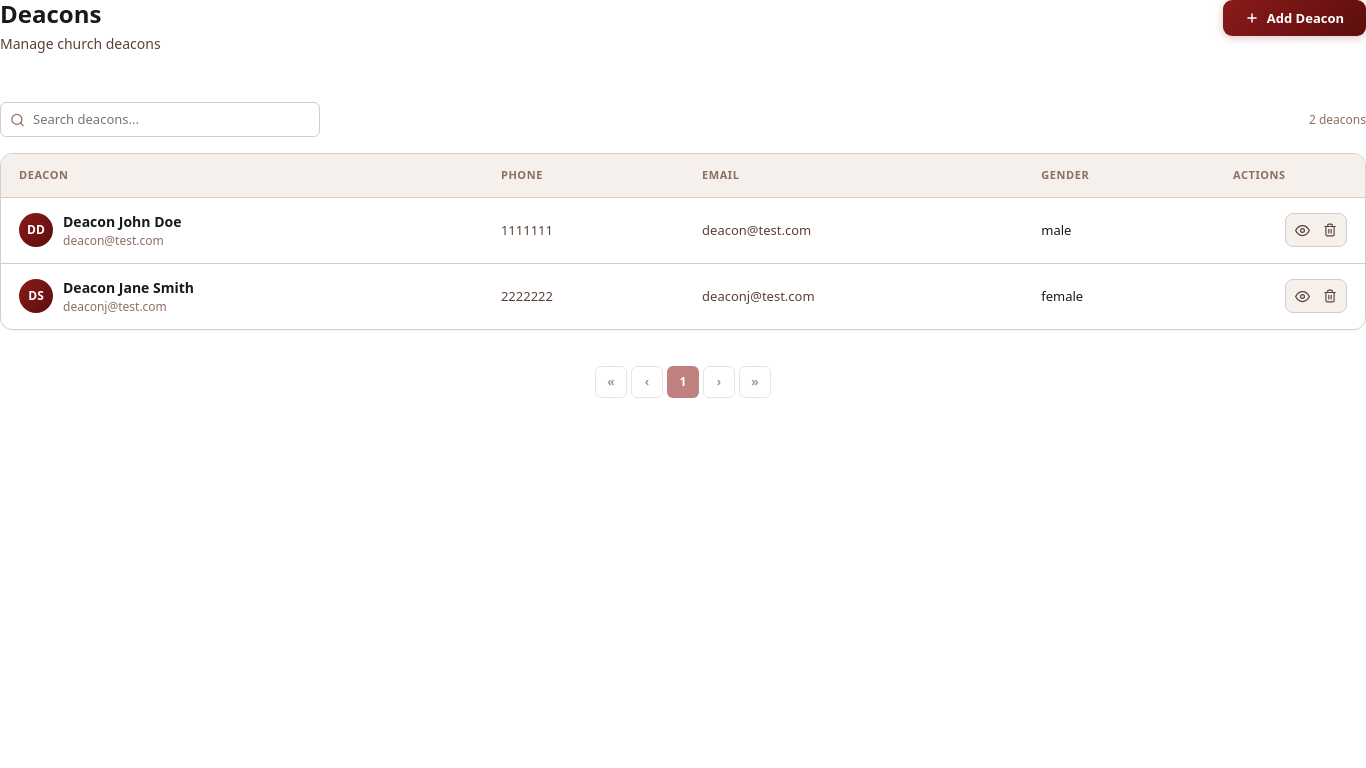
Deacons › opens add deacon modal
Click the button "Add Deacon" at (1294, 18), box [1223, 0, 1365, 36]
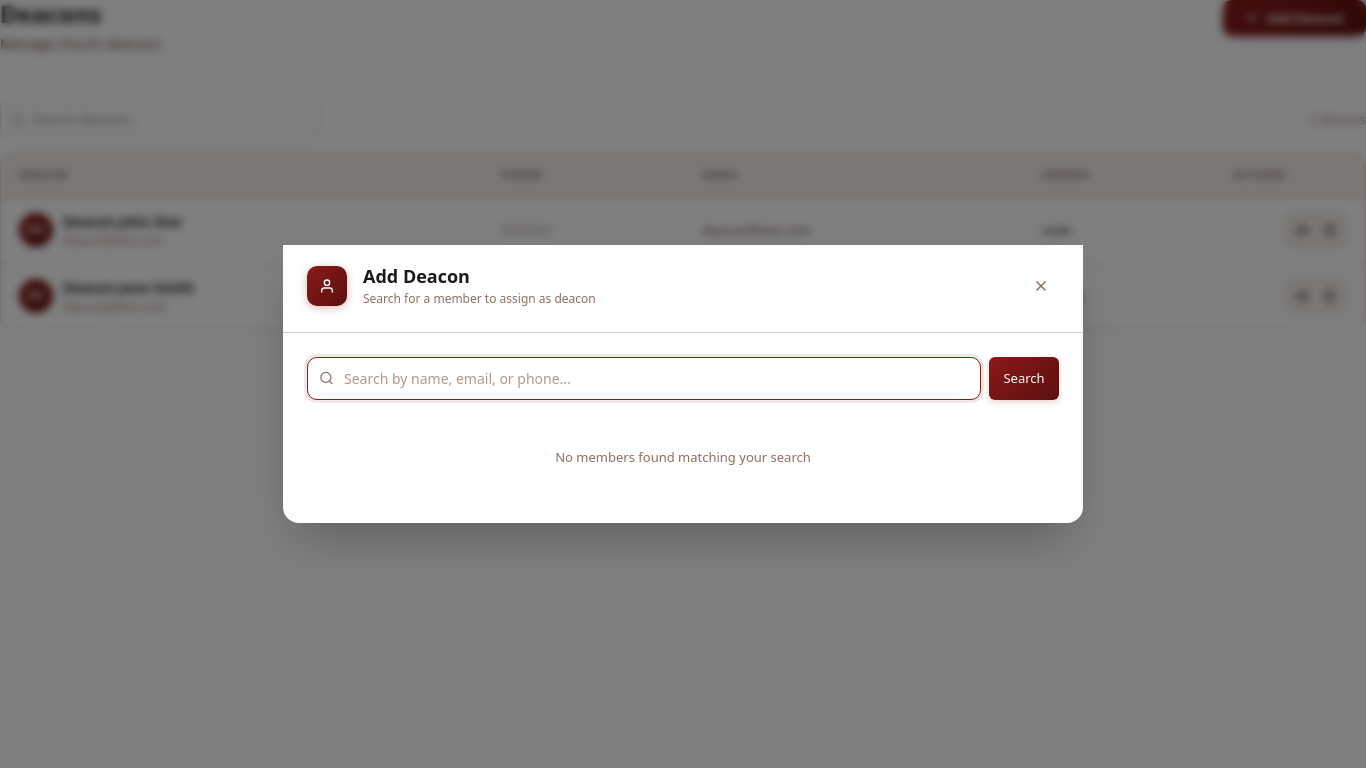
Expected: the heading "Add Deacon" is shown, [363, 264, 470, 288]
